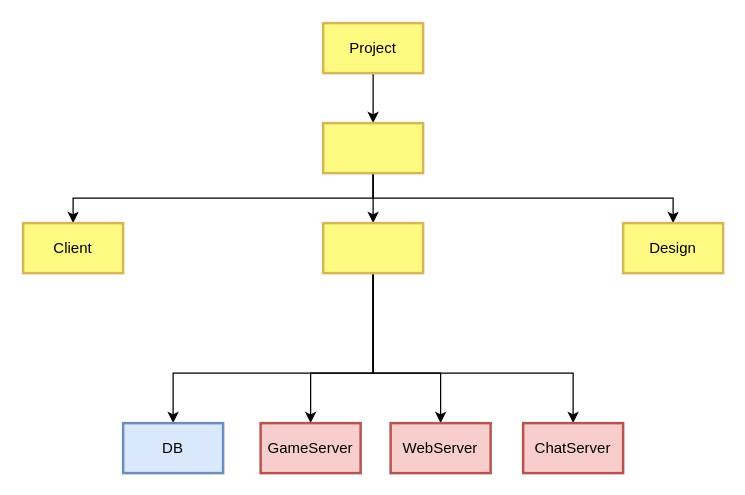
Image size: 745x495. Some labels were removed from this diagram. The centre of each missing label's shape, as x and y in pixels:
Escape: point (372, 147)
Server: point (372, 247)
